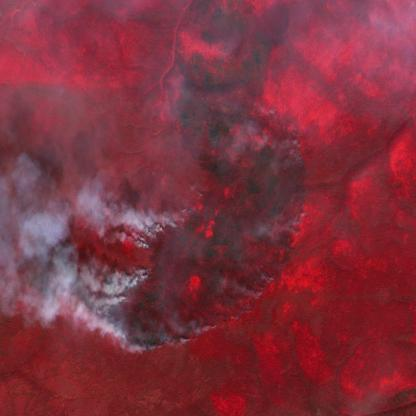fire: (102, 101, 311, 353)
